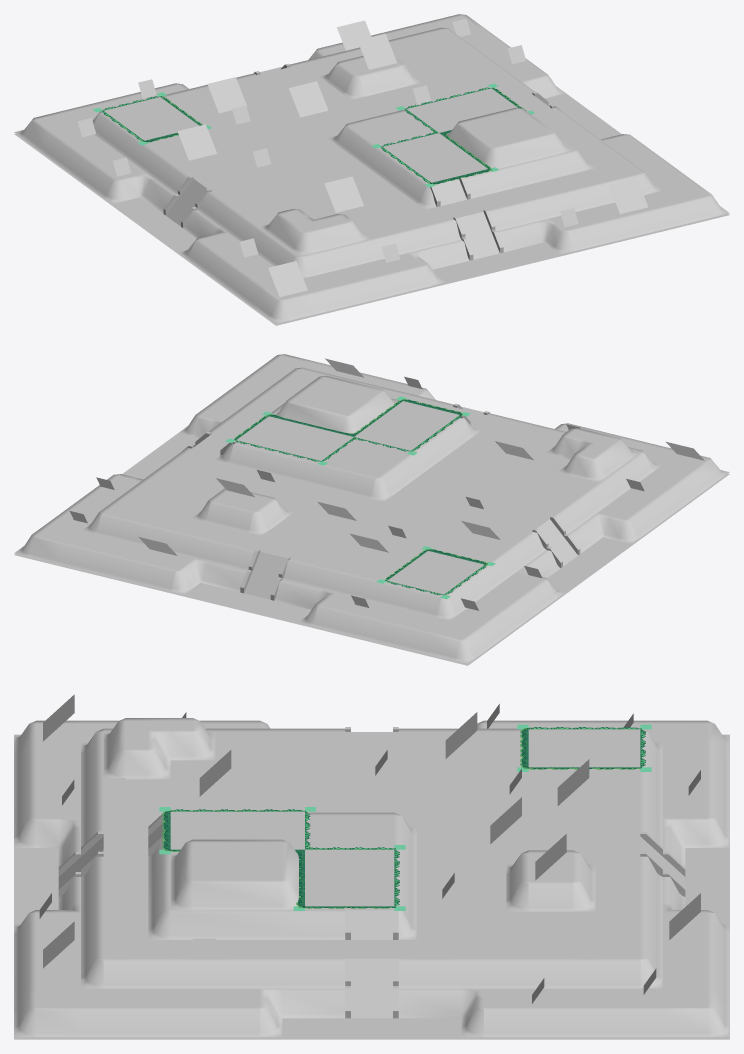
File: Safari Zone_Areas - Peak.dae
The picture shows the model from 3 angles, top to bottom: view 1: azimuth 30°, elevation 25°; view 2: azimuth 150°, elevation 25°; view 3: azimuth 270°, elevation 25°; orthographic projection. The views are drawn at different scales.
Parts seen in each view (by area): view 1: m_saf04_00_00c; view 2: m_saf04_00_00c; view 3: m_saf04_00_00c.
Boxes of the visible parts, x1,y1,x2,y2 form: m_saf04_00_00c: [14, 14, 729, 325]; m_saf04_00_00c: [14, 354, 729, 665]; m_saf04_00_00c: [14, 694, 729, 1039].
Size of the model in its own units: 512 by 512 by 73.31.
